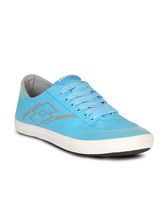shoes: (11, 72, 156, 161)
